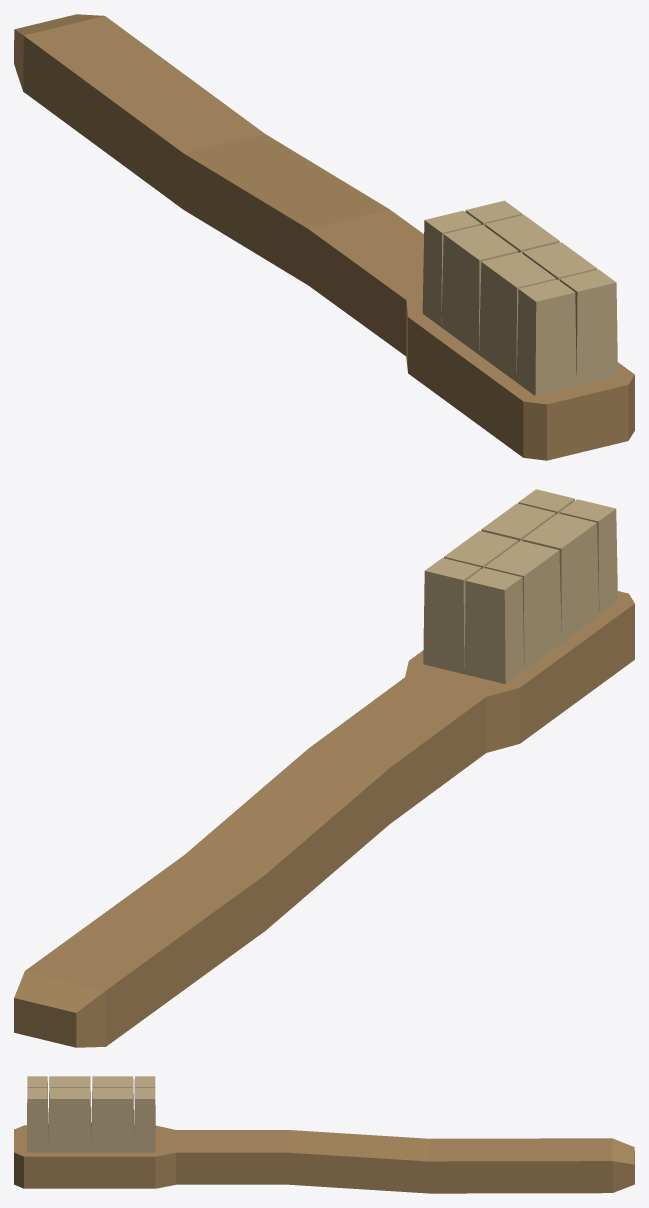
File: toothbrush.fbx
3 renders of one model, top to bottom at view 1: azimuth 30°, elevation 25°; view 2: azimuth 150°, elevation 25°; view 3: azimuth 270°, elevation 25°, orthographic. The views are drawn at different scales.
Visible parts, largest first — view 1: SmallBrush; view 2: SmallBrush; view 3: SmallBrush.
Part boxes in pixels (<box>): SmallBrush: <box>14,14,634,460</box>; SmallBrush: <box>14,489,634,1047</box>; SmallBrush: <box>14,1076,634,1193</box>.
Bounding box in the file's own units: 2.19 × 3.11 × 18.48.
